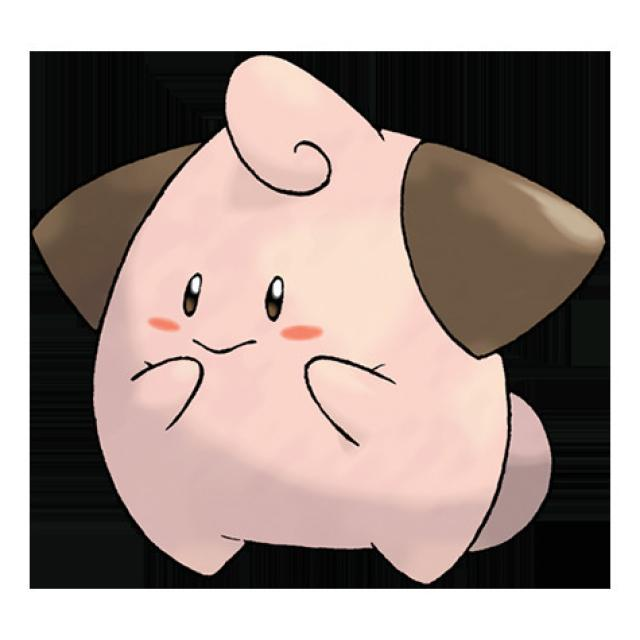Clefairy: (38, 59, 602, 578)
